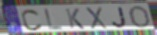C: (21, 8, 44, 32)
J: (112, 6, 128, 29)
K: (64, 8, 86, 30)
L: (43, 8, 64, 31)
O: (129, 5, 152, 29)
X: (84, 7, 110, 30)
